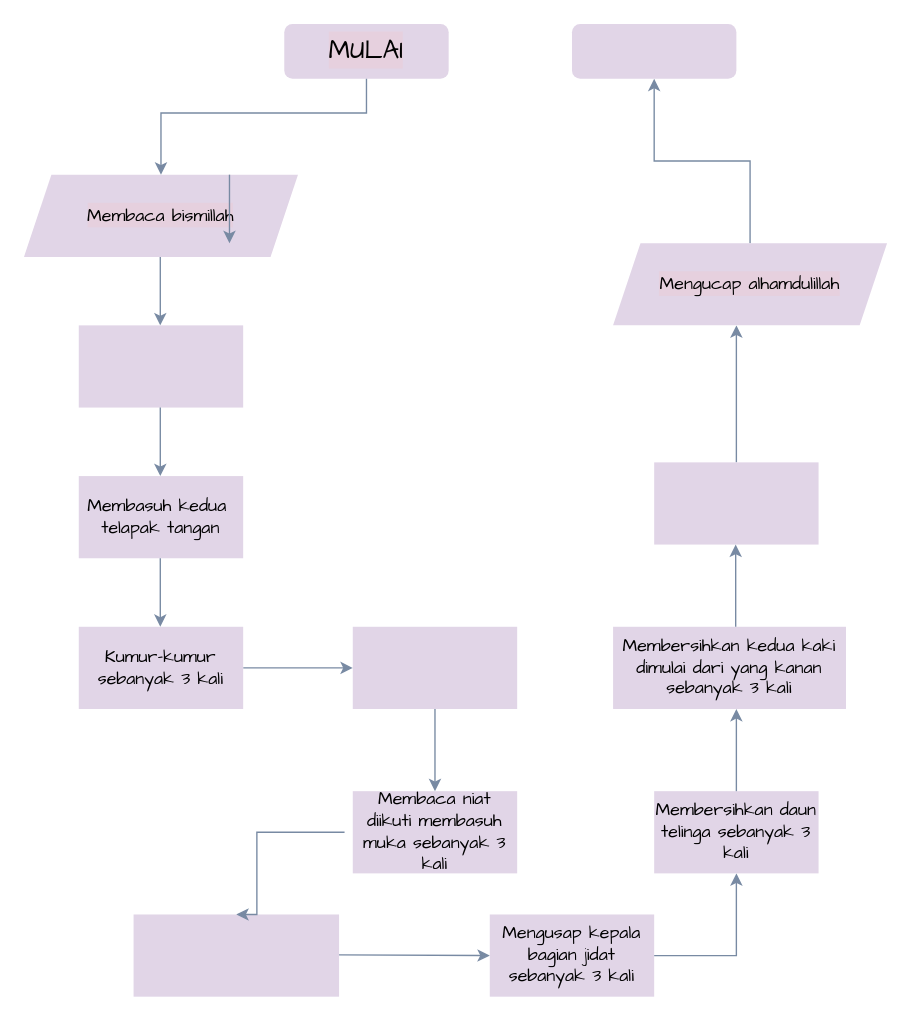
Image size: 910x1022. Some labels were removed from this diagram. Each missing label, with the centre of its shape:
"Matikan keran" goes at (x=735, y=503).
"Membasuh kedua tangan sampai ke siku dimulai dari yang kanan sebanyak 3 kali" goes at (x=235, y=955).
"Membersihkan hidung sebanyak 3 kali" goes at (x=434, y=667).
"Menghidupkan keran" goes at (x=160, y=366).
"SELESAI" goes at (x=653, y=50).
